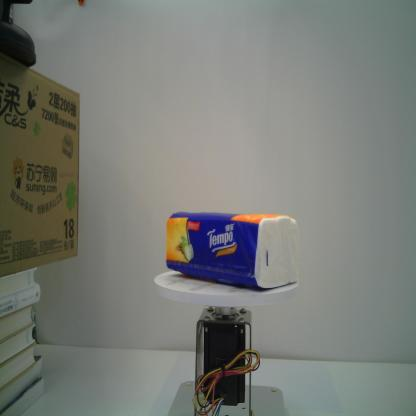Tissue: (166, 211, 299, 290)
